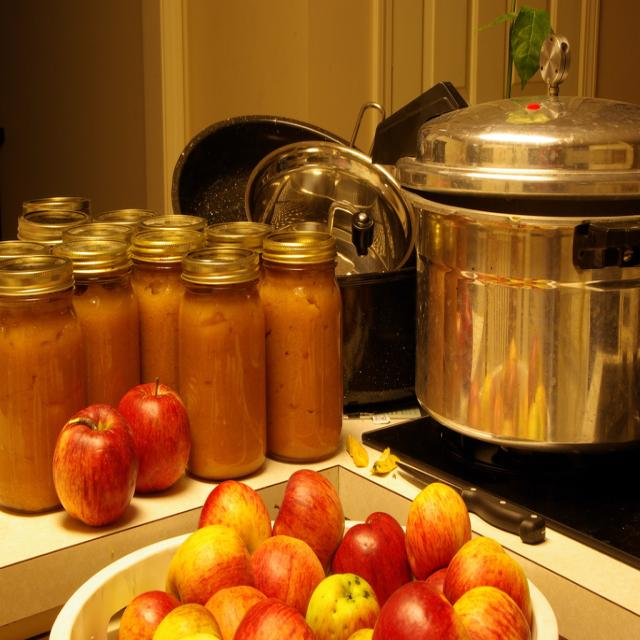Healty Apple: (115, 468, 534, 639), (51, 404, 138, 529), (118, 378, 192, 492)
